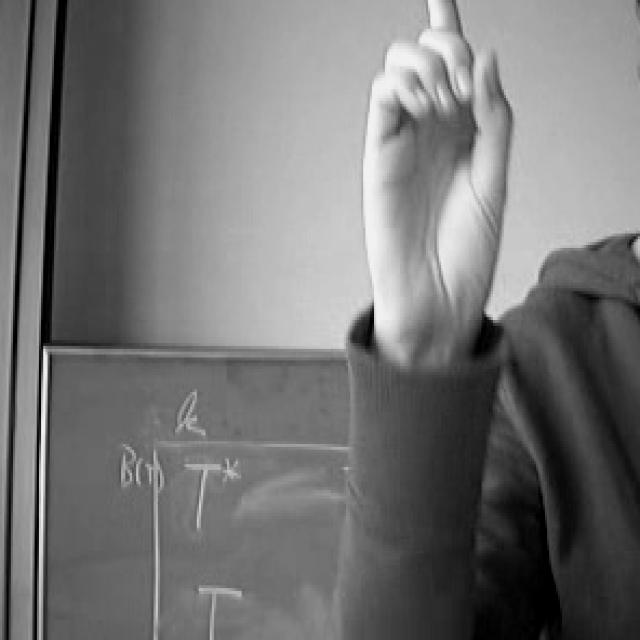D: (335, 0, 519, 334)
